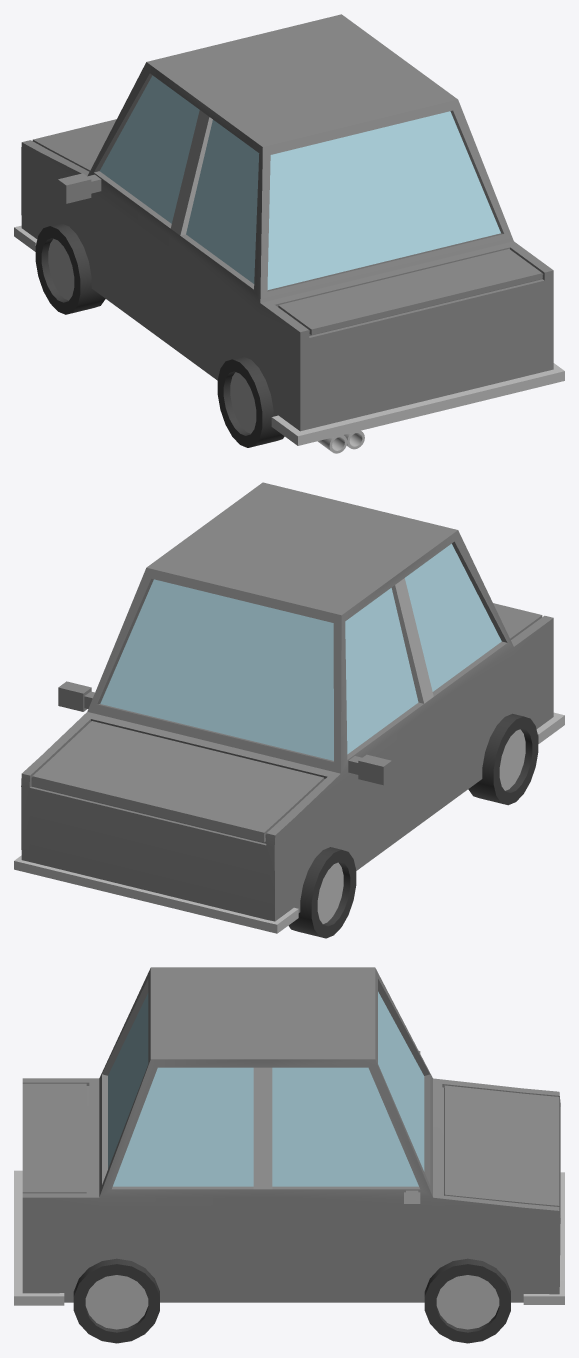
Rendered from M_Car_Other_04.FBX.
3 views of the same model, one above another, from view 1: azimuth 30°, elevation 25°; view 2: azimuth 150°, elevation 25°; view 3: azimuth 270°, elevation 25° (orthographic). The views are drawn at different scales.
Parts seen in each view (by area): view 1: Car004; view 2: Car004; view 3: Car004.
Boxes of the visible parts, x1,y1,x2,y2 form: Car004: (14, 14, 564, 453); Car004: (14, 482, 564, 938); Car004: (14, 967, 564, 1343).
Size of the model in its own units: 1.44 by 2.18 by 1.16.
